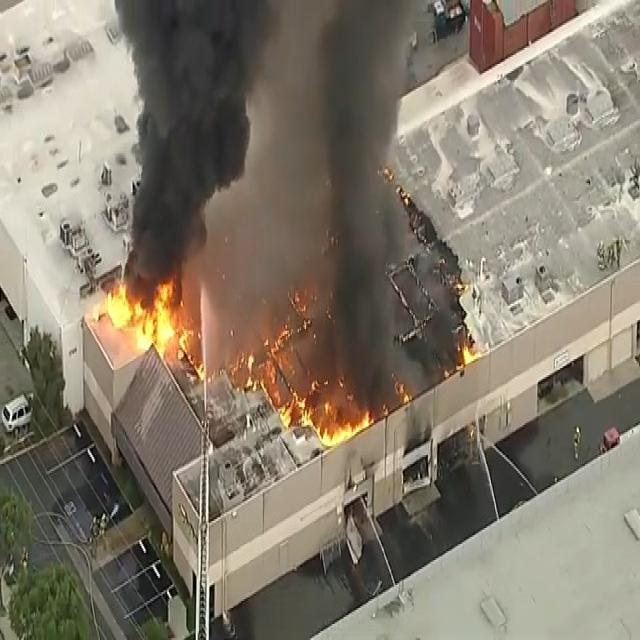Fire: (262, 326, 374, 459), (103, 273, 182, 351)
Smoke: (127, 0, 421, 320)
